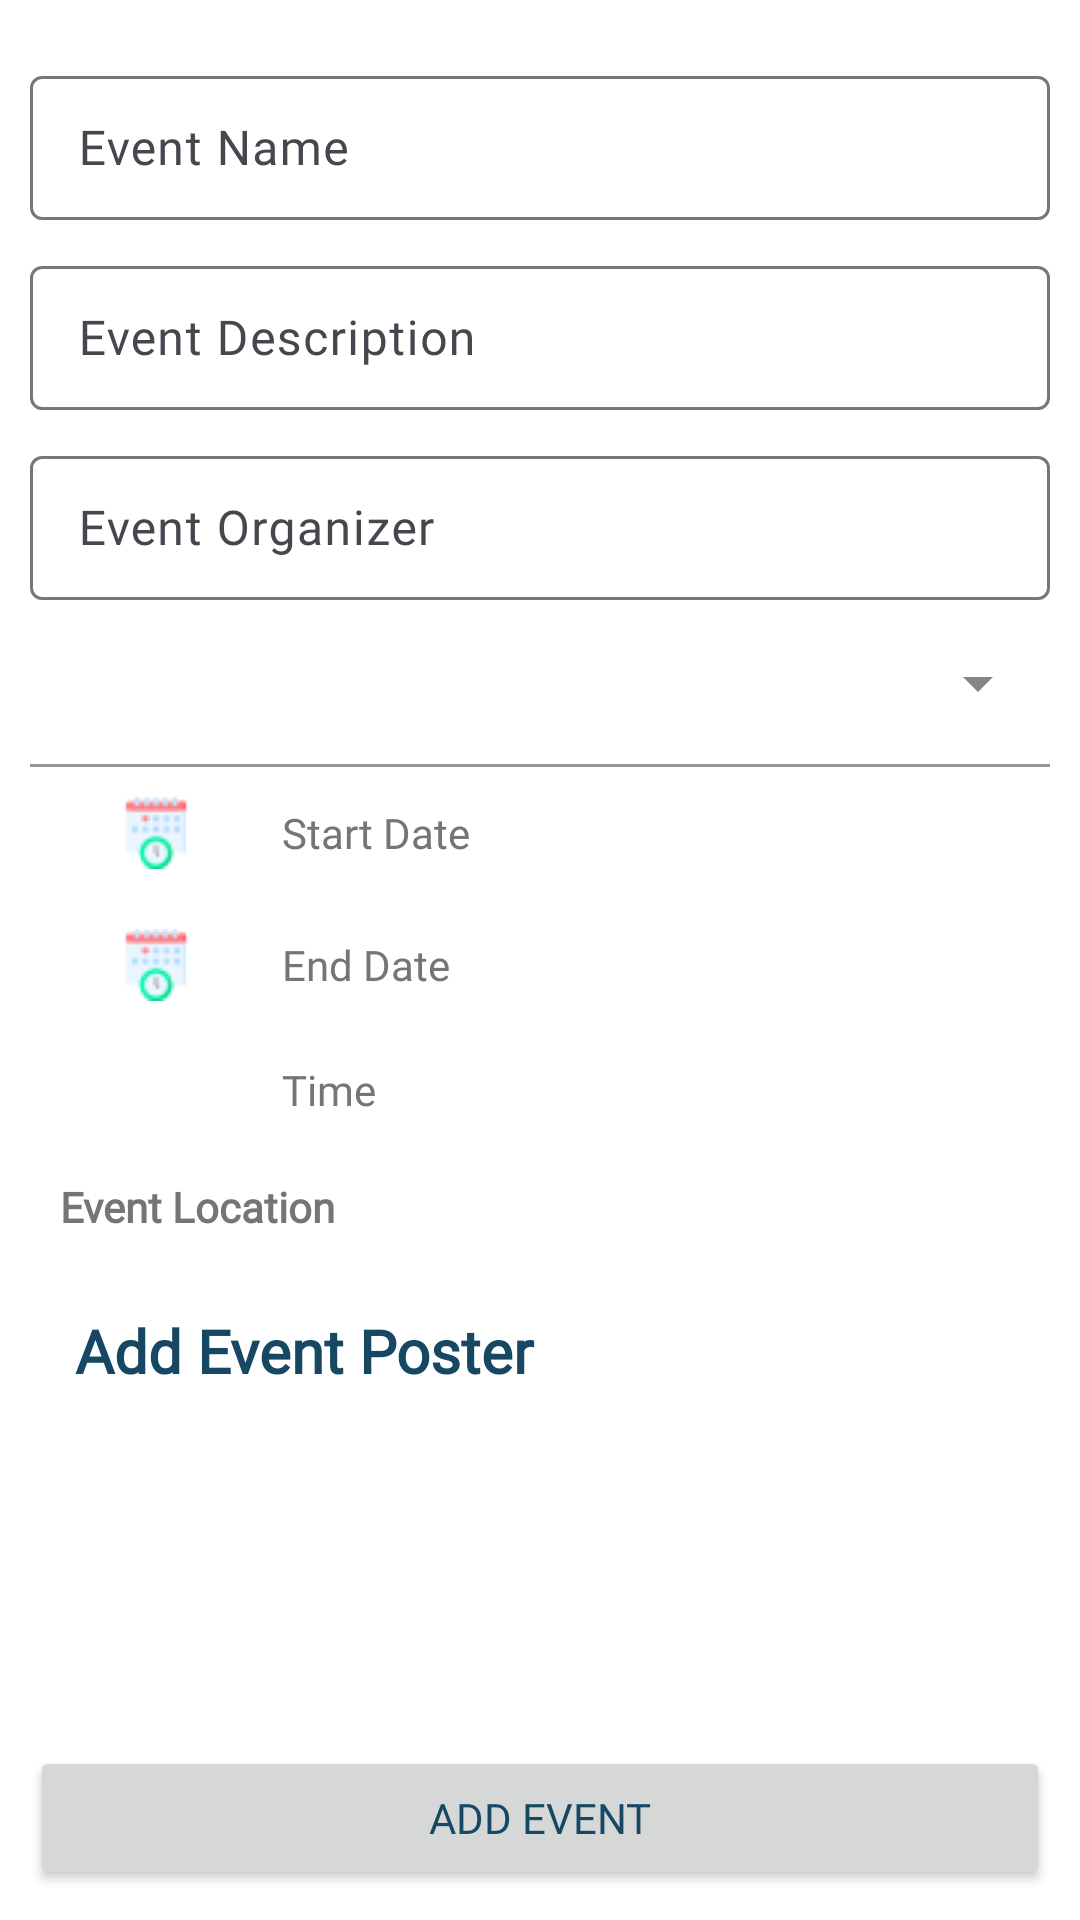

Icon click points for this 1080px x 1920px phone screenshot, format (x=x, y=y):
textview date: (x=156, y=833), (x=156, y=965)
